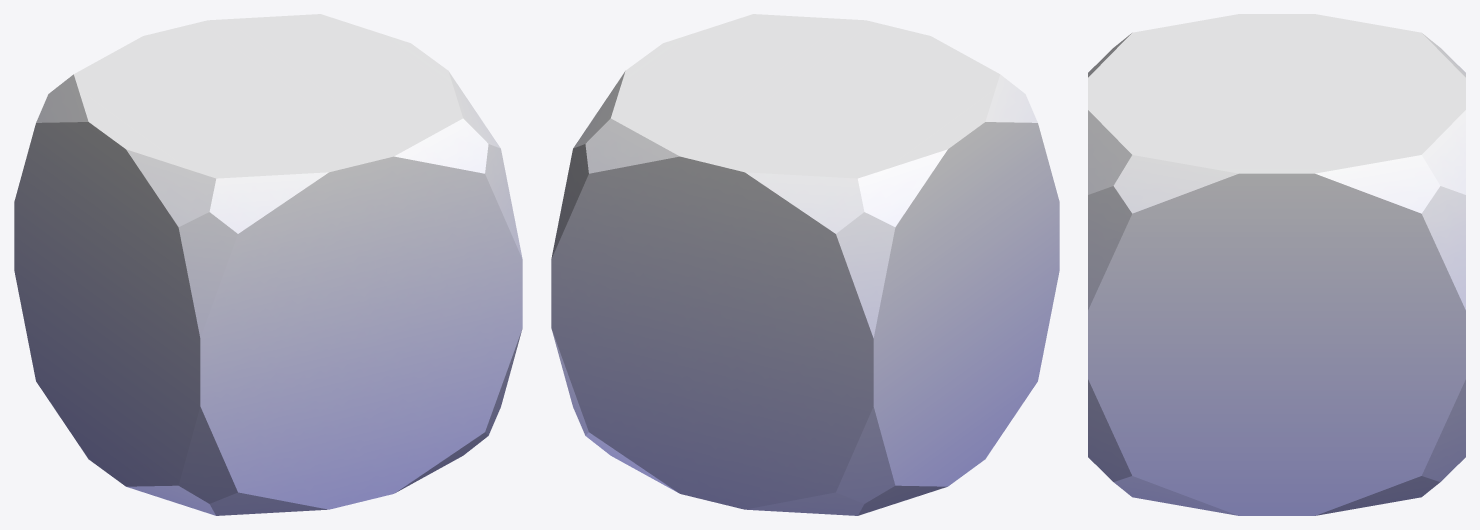
Rendered from OPT_block001.glb.
3 renders of one model, left to right at view 1: azimuth 30°, elevation 25°; view 2: azimuth 150°, elevation 25°; view 3: azimuth 270°, elevation 25°, orthographic.
Visible parts, largest first — view 1: Cube.001; view 2: Cube.001; view 3: Cube.001.
Boxes of the visible parts, bbox=[...] form: Cube.001: bbox=[14, 14, 522, 515]; Cube.001: bbox=[551, 14, 1059, 515]; Cube.001: bbox=[1088, 14, 1465, 515].
Bounding box in the file's own units: 1 × 1 × 1.
1 material, 1 textured.
